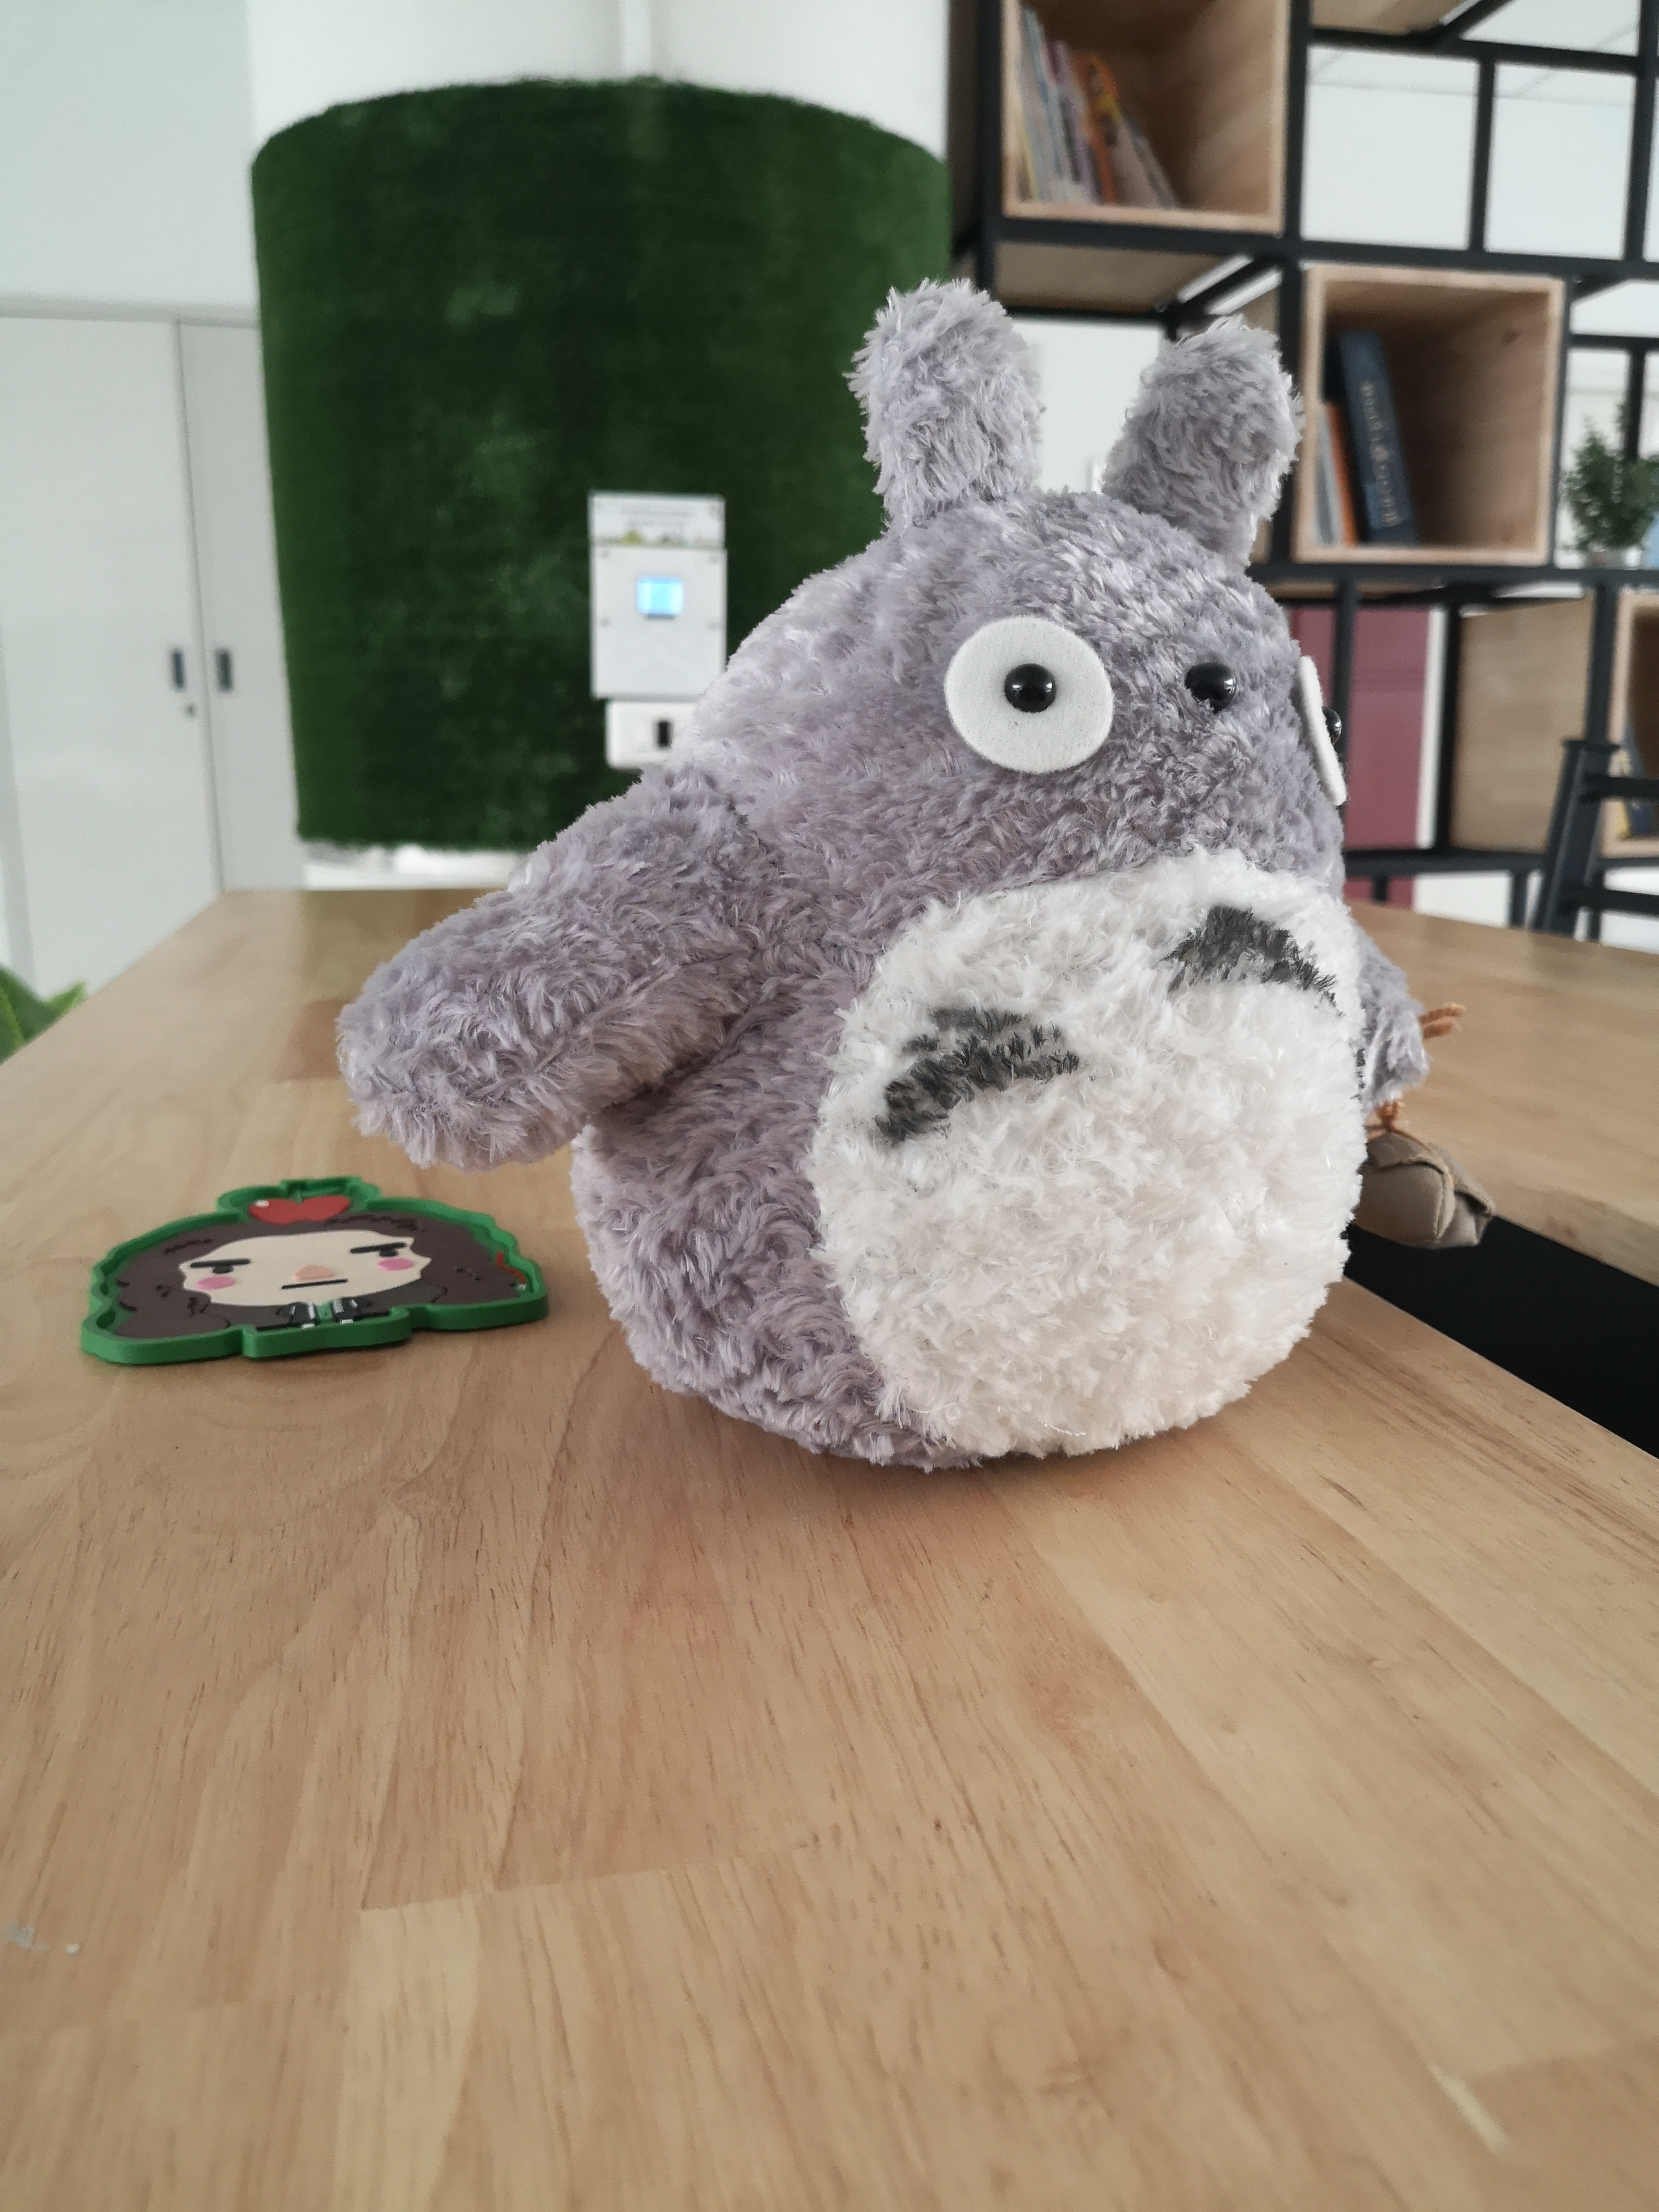totoro: (336, 265, 1500, 1489)
